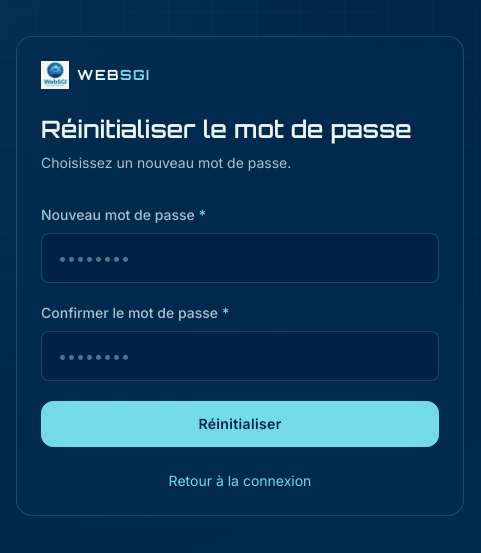
Test case: ResetPassword › should display the error when the token is invalid or expired
The image size is (481, 553).
Type "nouveau-mdp-123" into the password field labelled "Nouveau mot de passe*" at (240, 258), box top-left (41, 233), bottom-right (439, 283)
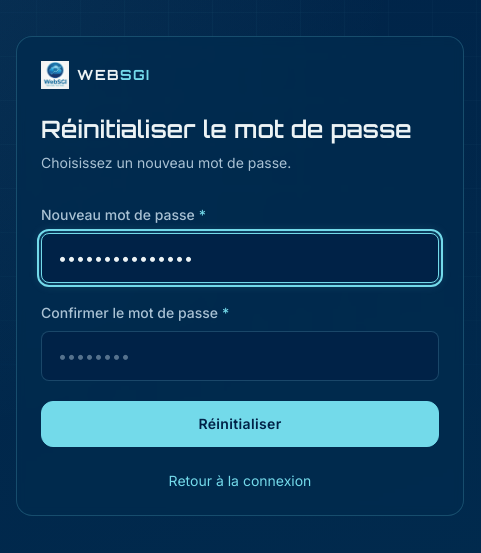
Type "nouveau-mdp-123" into the password field labelled "Confirmer le mot de passe*" at (240, 356), box top-left (41, 331), bottom-right (439, 381)
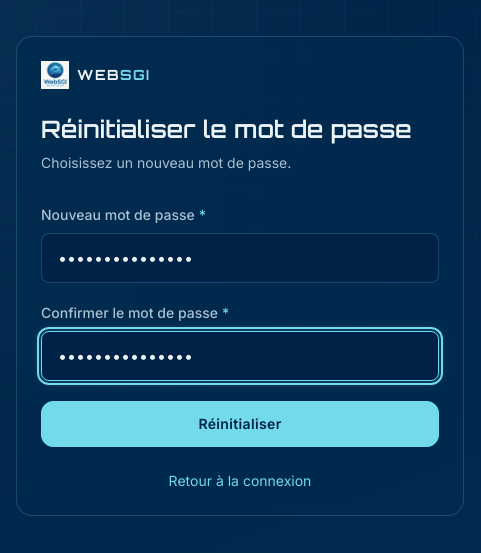
Click the button "Réinitialiser" at (240, 424), box top-left (41, 401), bottom-right (439, 447)
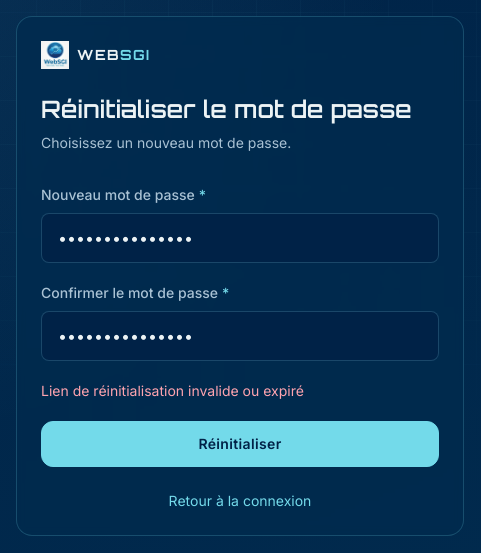
Now the text "Lien de réinitialisation invalide ou expiré" is shown, box top-left (41, 382), bottom-right (304, 399)
